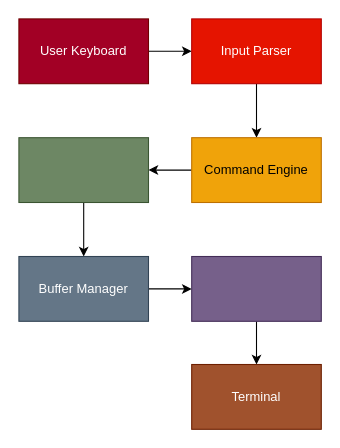
Image size: 340x448. Some labels were removed from this diagram. Here are the shapes that lost their labels. From the top down, the centre of each, then its label:
At [83,169]: "Editor Core".
At [256,288]: "Renderer".
